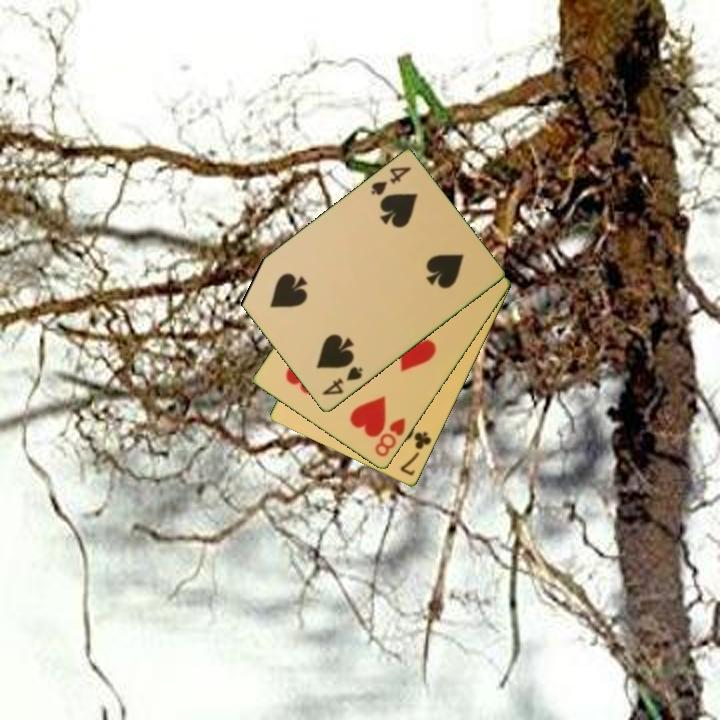4s: (367, 163, 414, 199), (319, 363, 366, 398)
7c: (397, 428, 434, 479)
8h: (371, 414, 408, 460)
